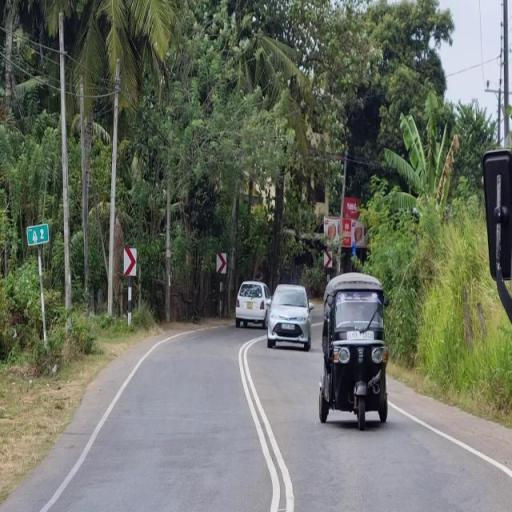double_white_line: (238, 334, 300, 510)
